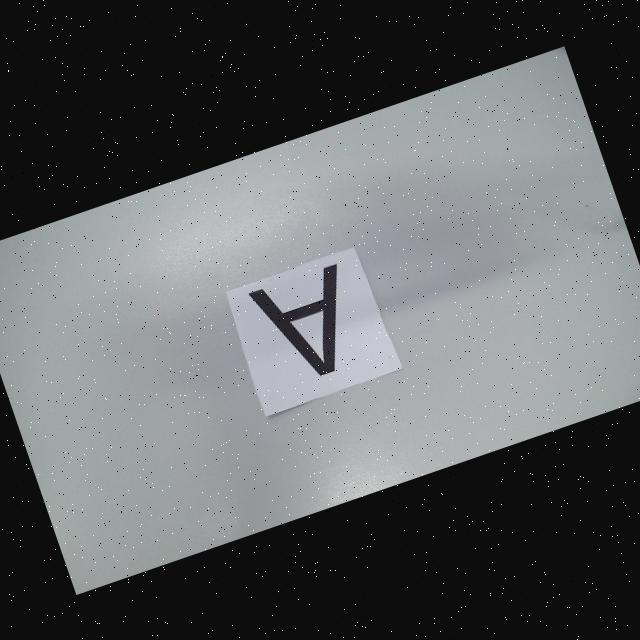FAKE: (248, 262, 370, 390)
